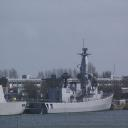Fragata: (28, 38, 116, 116)
